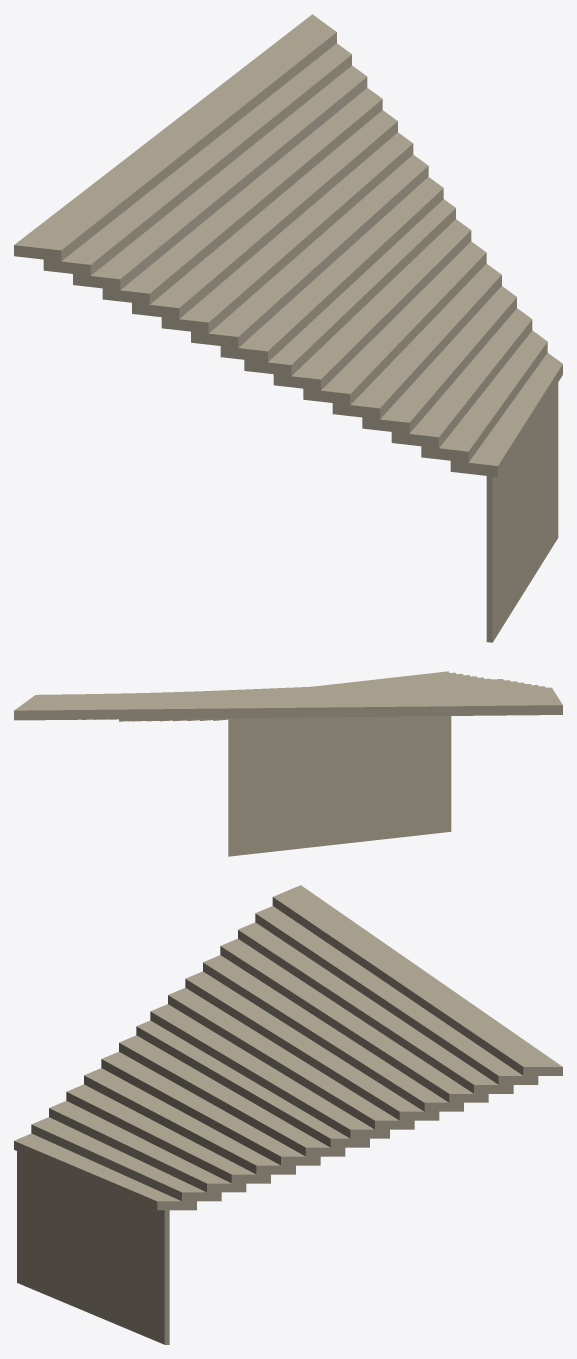
File: Mirrored Wall - Test.fbx
3 renders of one model, top to bottom at view 1: azimuth 30°, elevation 25°; view 2: azimuth 150°, elevation 25°; view 3: azimuth 270°, elevation 25°, orthographic. The views are drawn at different scales.
Visible parts, largest first — view 1: Wall_Angled_Seating17; view 2: Wall_Angled_Seating17; view 3: Wall_Angled_Seating17.
Boxes of the visible parts, left/top/right/bottom form: Wall_Angled_Seating17: left=14, top=14, right=562, bottom=642; Wall_Angled_Seating17: left=14, top=671, right=562, bottom=856; Wall_Angled_Seating17: left=14, top=885, right=562, bottom=1344.
Size of the model in its own units: 870 by 620 by 1110.
